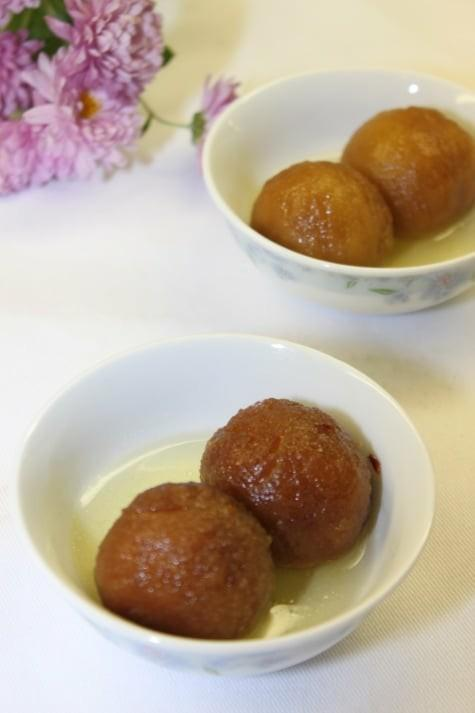GulabJamun: (197, 391, 378, 560), (90, 482, 273, 642), (340, 106, 475, 236), (249, 160, 396, 277)
